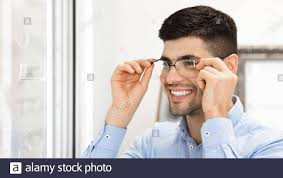Glasses: (144, 57, 207, 79)
